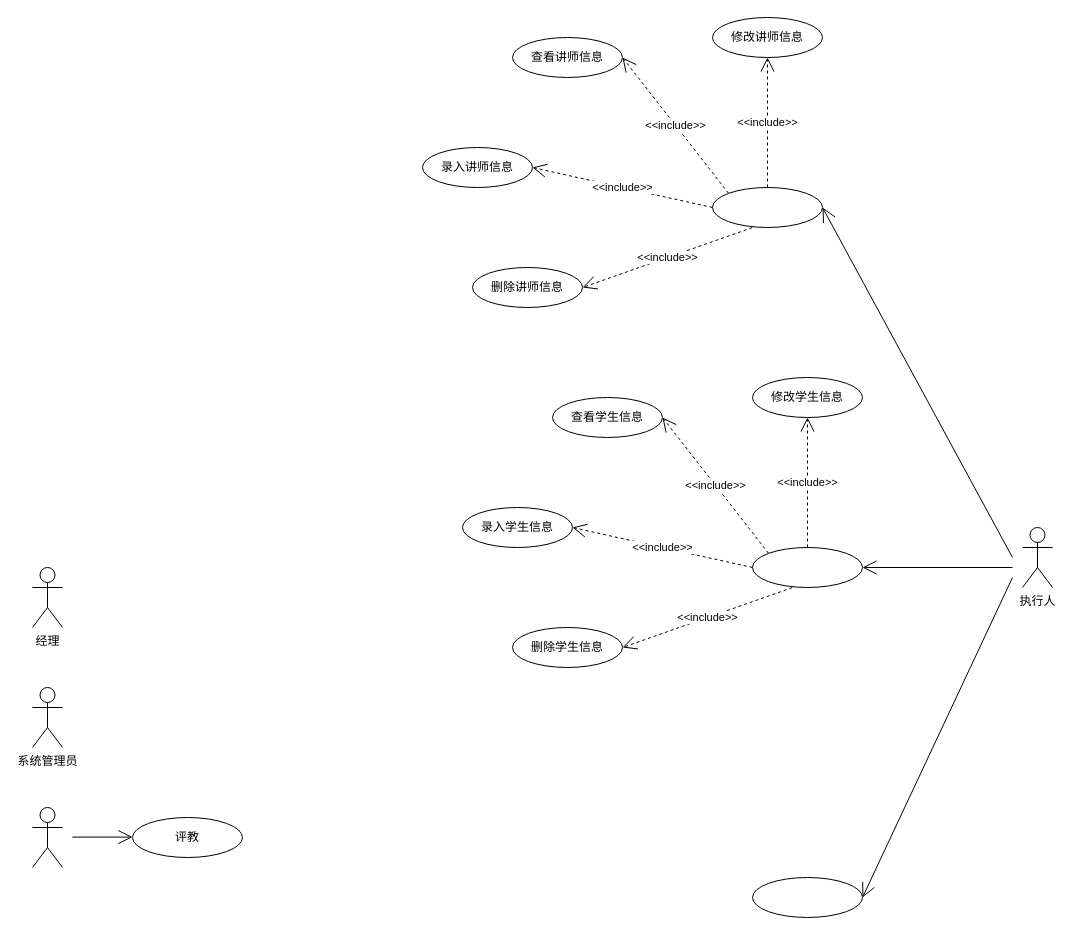
Some shapes in this 1072 by 935 pixel diagram are drawn without their labels. The box of each missing label's shape, as (x1, y1, x2, y2) in pixels:
学员: (32, 806, 62, 868)
维护培训信息: (752, 876, 862, 918)
维护学生信息: (752, 546, 862, 588)
维护讲师信息: (712, 186, 822, 228)
